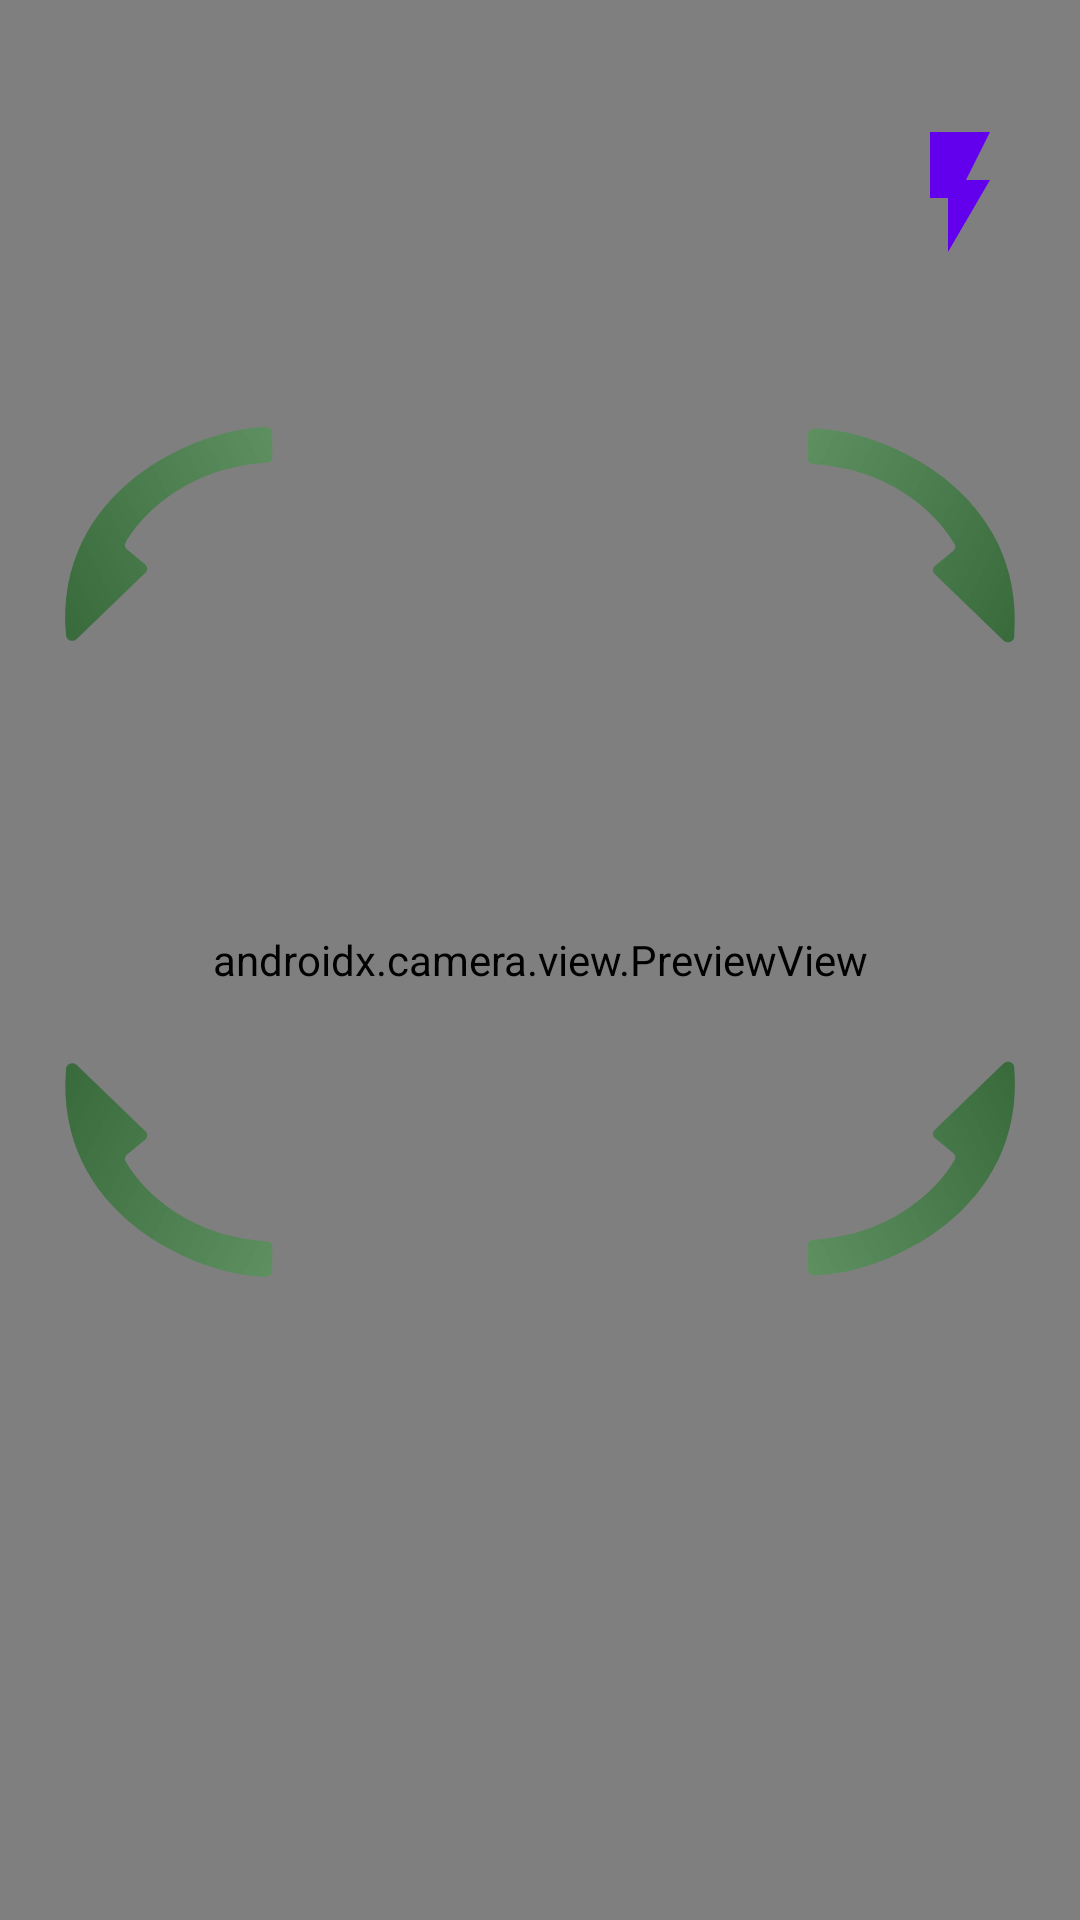

Icons on this 1080×1920 Android screen, each with the point to tap as (x,y):
arrow bottom left: (168,1170)
arrow bottom right: (911,1168)
arrow top left: (168,534)
arrow top right: (911,535)
flash on: (960,192)
